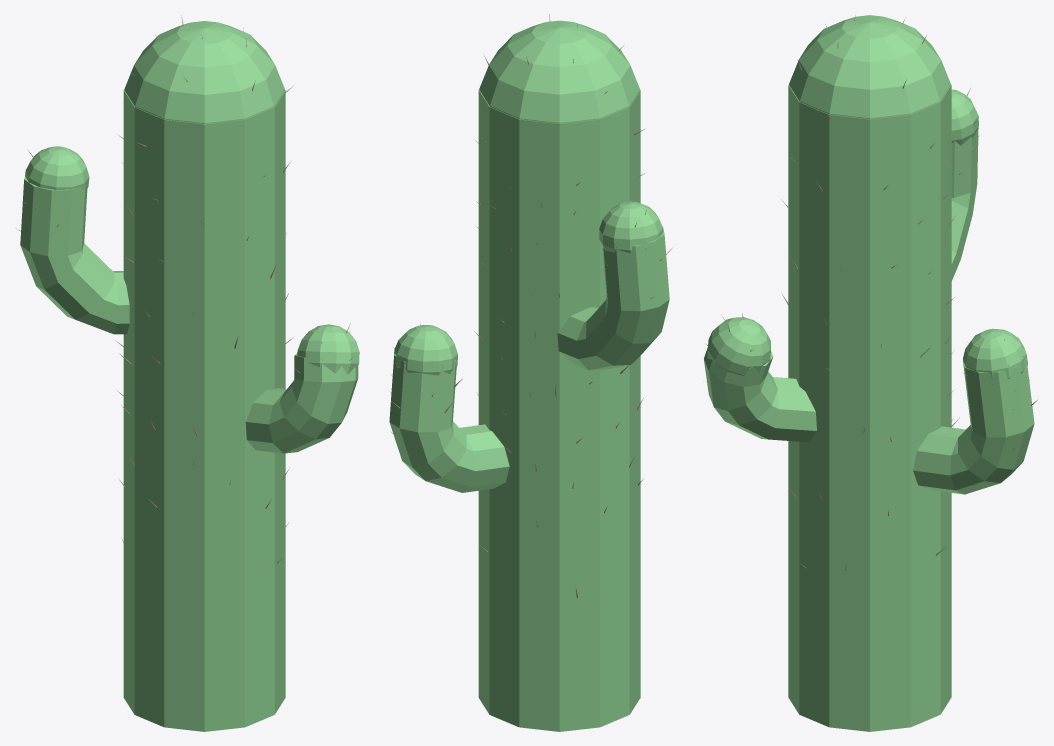
Rendered from goodCactus_model.fbx.
3 views of the same model, side by side, from view 1: azimuth 30°, elevation 25°; view 2: azimuth 150°, elevation 25°; view 3: azimuth 270°, elevation 25° (orthographic).
Visible parts, largest first — view 1: mesh_7763379; view 2: mesh_7763379; view 3: mesh_7763379.
Boxes of the visible parts, x1=… form: mesh_7763379: x1=16, y1=15, x2=359, y2=731; mesh_7763379: x1=389, y1=14, x2=672, y2=731; mesh_7763379: x1=704, y1=15, x2=1037, y2=731.
Bounding box in the file's own units: 434 × 1140 × 512.
